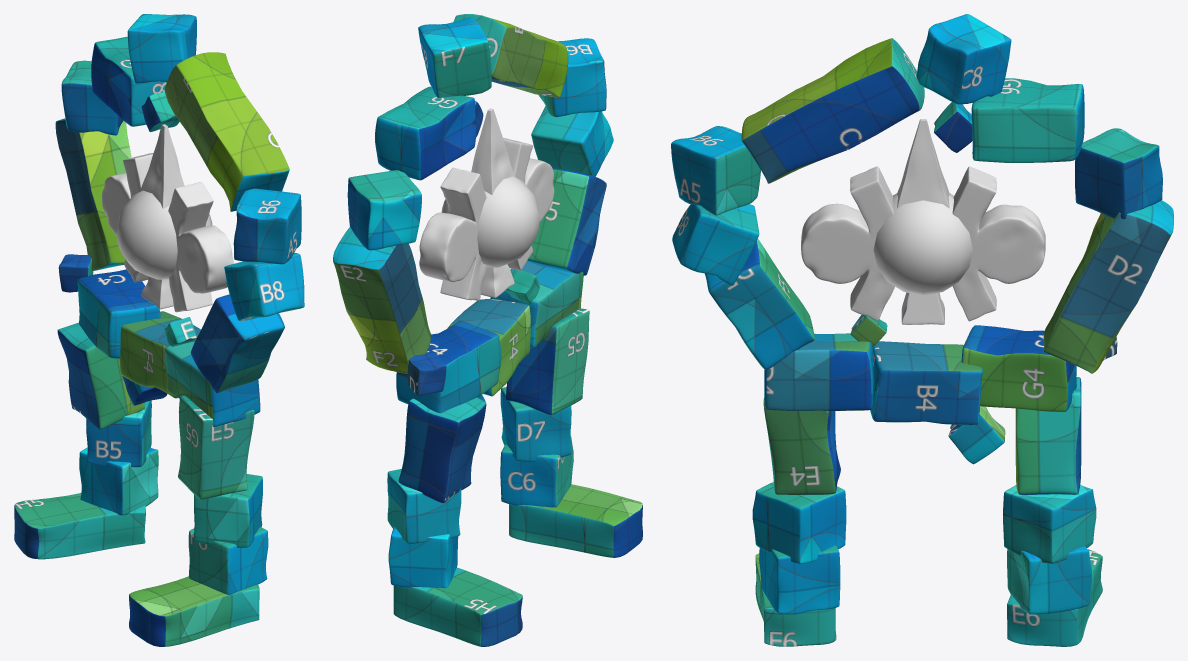
The model's file is GolemV2.fbx.
The picture shows the model from 3 angles, left to right: view 1: azimuth 30°, elevation 25°; view 2: azimuth 150°, elevation 25°; view 3: azimuth 270°, elevation 25°; orthographic projection. The views are drawn at different scales.
Visible parts, largest first — view 1: FootL (×2), BodyPieceLong001, BodyPieceLong, Cylinder001, Thighl, Box021, ThighR, SmallCube006, Box019, MainEye, SmallCube007, SmallCube002 (+15 smaller); view 2: FootL (×2), BodyPieceLong, Box022, ThighR, Cylinder002, Thighl, Box021, Box019, SmallCube, BodyPieceLong001, SmallCube002, MainEye (+13 smaller); view 3: BodyPieceLong001, BodyPieceLong, Box022, Box010, Cylinder001, Cylinder002, MainEye, Box019, Box020, Box021, SmallCube002, FootL (×2) (+14 smaller).
Part boxes in pixels (x1,y1,x2,y2): FootL (×2): [14, 493, 259, 646]; BodyPieceLong001: [164, 52, 289, 211]; BodyPieceLong: [55, 118, 131, 271]; Cylinder001: [168, 182, 233, 312]; Thighl: [178, 395, 254, 499]; Box021: [190, 294, 284, 393]; ThighR: [57, 322, 144, 429]; SmallCube006: [233, 188, 301, 264]; Box019: [77, 269, 160, 358]; MainEye: [116, 190, 212, 279]; SmallCube007: [224, 253, 304, 320]; SmallCube002: [127, 14, 196, 83]; FootL (×2): [393, 484, 642, 646]; BodyPieceLong: [333, 227, 430, 373]; Box022: [375, 86, 476, 180]; ThighR: [398, 397, 486, 503]; Cylinder002: [419, 167, 487, 300]; Thighl: [506, 308, 589, 415]; Box021: [527, 168, 606, 275]; Box019: [396, 320, 501, 413]; SmallCube: [347, 170, 421, 250]; BodyPieceLong001: [453, 14, 568, 97]; SmallCube002: [418, 17, 491, 97]; MainEye: [441, 176, 539, 267]; BodyPieceLong001: [741, 38, 924, 183]; BodyPieceLong: [1043, 200, 1173, 373]; Box022: [971, 78, 1084, 162]; Box010: [870, 341, 982, 424]; Cylinder001: [801, 166, 894, 321]; Cylinder002: [952, 166, 1045, 321]; MainEye: [873, 193, 972, 295]; Box019: [961, 325, 1076, 411]; Box020: [764, 333, 873, 410]; Box021: [704, 239, 814, 369]; SmallCube002: [916, 14, 1011, 104]; FootL (×2): [755, 549, 1102, 646].
Size of the model in its own units: 81.39 by 313 by 232.
1 material, 1 textured.
